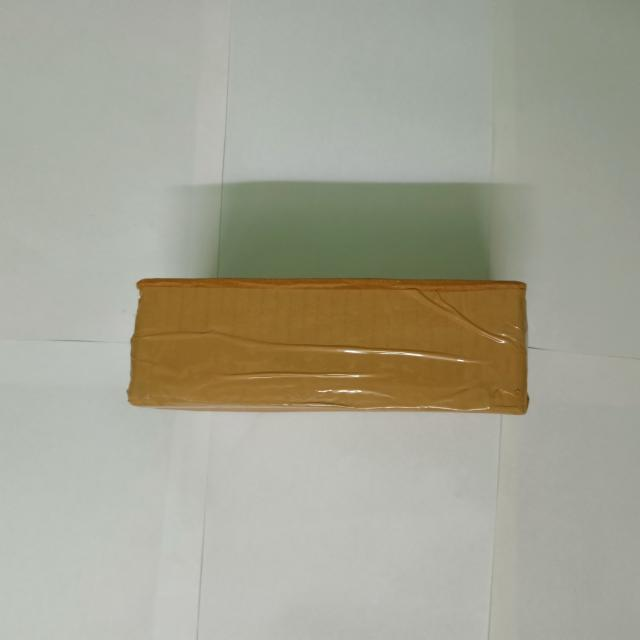box: (130, 277, 530, 416)
